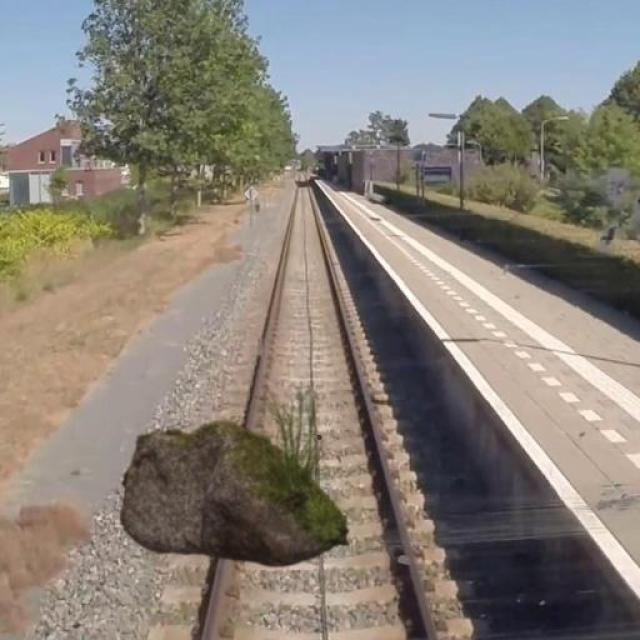Stone: (111, 427, 358, 566)
